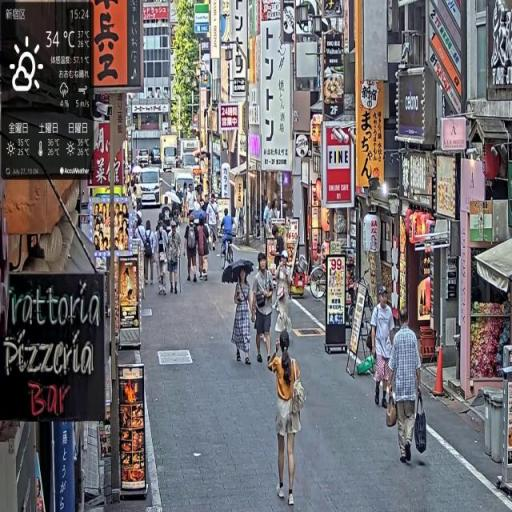person: (268, 328, 307, 510), (384, 311, 427, 465), (370, 289, 397, 412), (253, 251, 277, 368), (232, 265, 257, 366), (156, 219, 171, 296), (168, 222, 182, 294), (185, 216, 199, 285), (221, 207, 235, 271), (207, 196, 221, 259)
